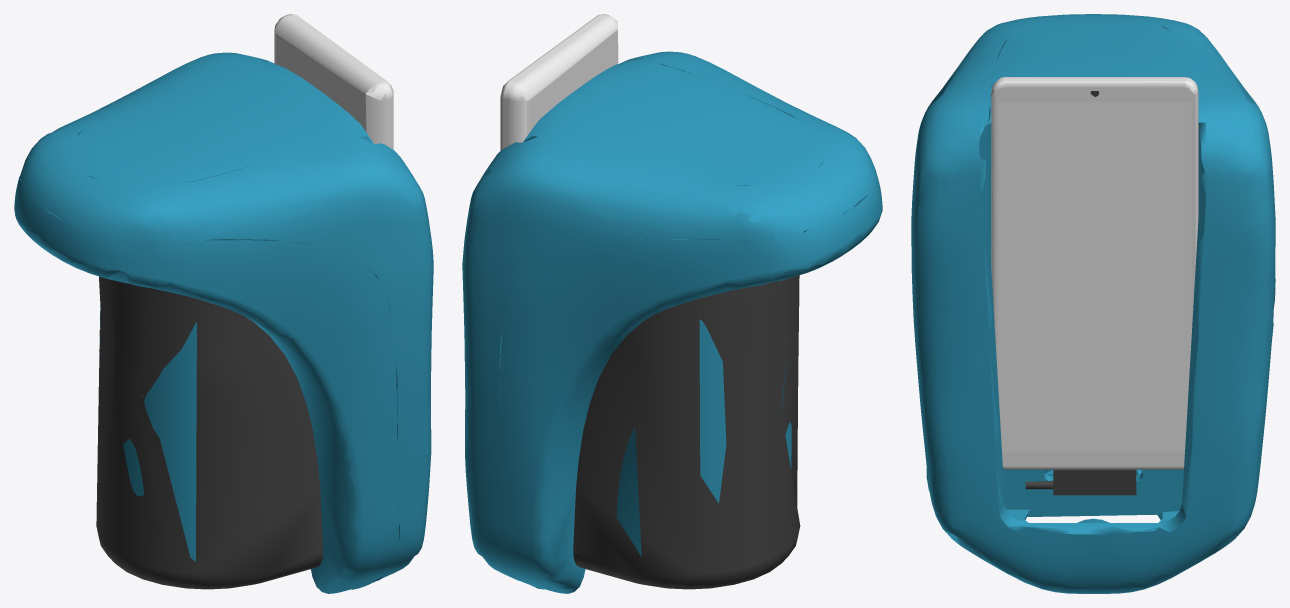
The model's file is head_link.dae.
3 renders of one model, left to right at view 1: azimuth 30°, elevation 25°; view 2: azimuth 150°, elevation 25°; view 3: azimuth 270°, elevation 25°, orthographic.
Parts seen in each view (by area): view 1: FBXASC227FBXASC130FBXASC189FBXASC227FBXASC131FBXASC170FBXASC (×2); view 2: FBXASC227FBXASC130FBXASC189FBXASC227FBXASC131FBXASC170FBXASC (×2); view 3: FBXASC227FBXASC130FBXASC189FBXASC227FBXASC131FBXASC170FBXASC (×2).
Part boxes in pixels (x1,y1,x2,y2): FBXASC227FBXASC130FBXASC189FBXASC227FBXASC131FBXASC170FBXASC (×2): (14,14,433,593); FBXASC227FBXASC130FBXASC189FBXASC227FBXASC131FBXASC170FBXASC (×2): (462,14,882,593); FBXASC227FBXASC130FBXASC189FBXASC227FBXASC131FBXASC170FBXASC (×2): (911,14,1275,593).
Bounding box in the file's own units: 0.132 × 0.1319 × 0.2062.
